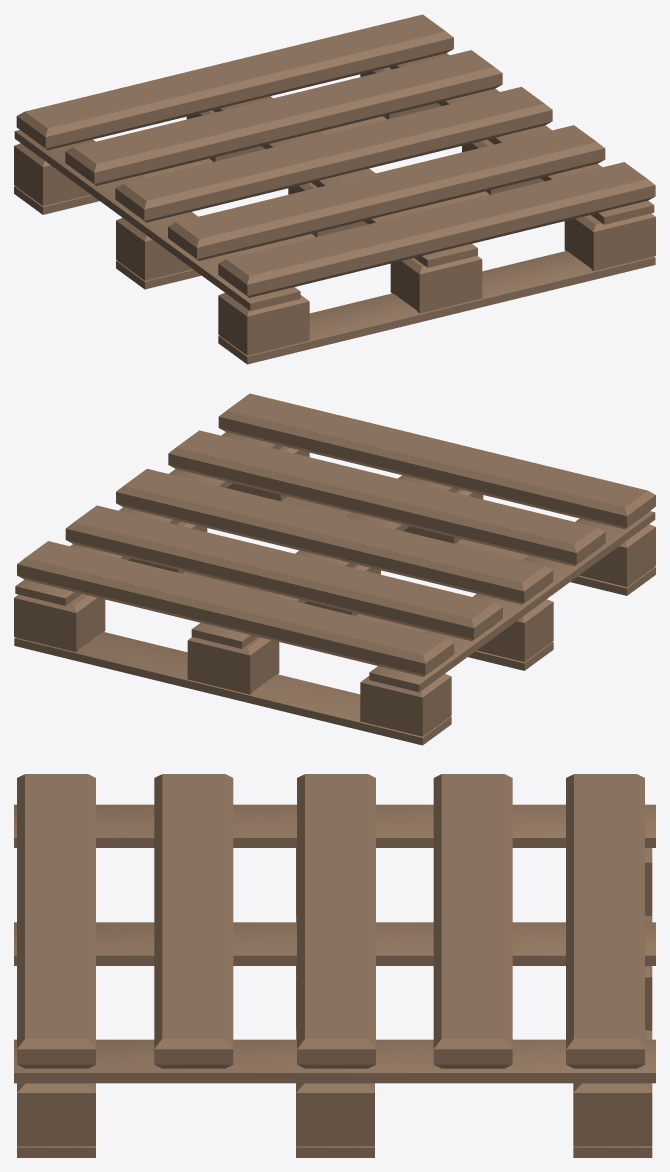
Rendered from props_52.glb.
3 renders of one model, top to bottom at view 1: azimuth 30°, elevation 25°; view 2: azimuth 150°, elevation 25°; view 3: azimuth 270°, elevation 25°, orthographic. The views are drawn at different scales.
Parts seen in each view (by area): view 1: props_52; view 2: props_52; view 3: props_52.
Part boxes in pixels (<box>): props_52: <box>14,14,655,364</box>; props_52: <box>14,393,655,745</box>; props_52: <box>14,774,655,1157</box>.
Bounding box in the file's own units: 2 × 0.4085 × 2.
Materials: 1 (1 with a texture image).
